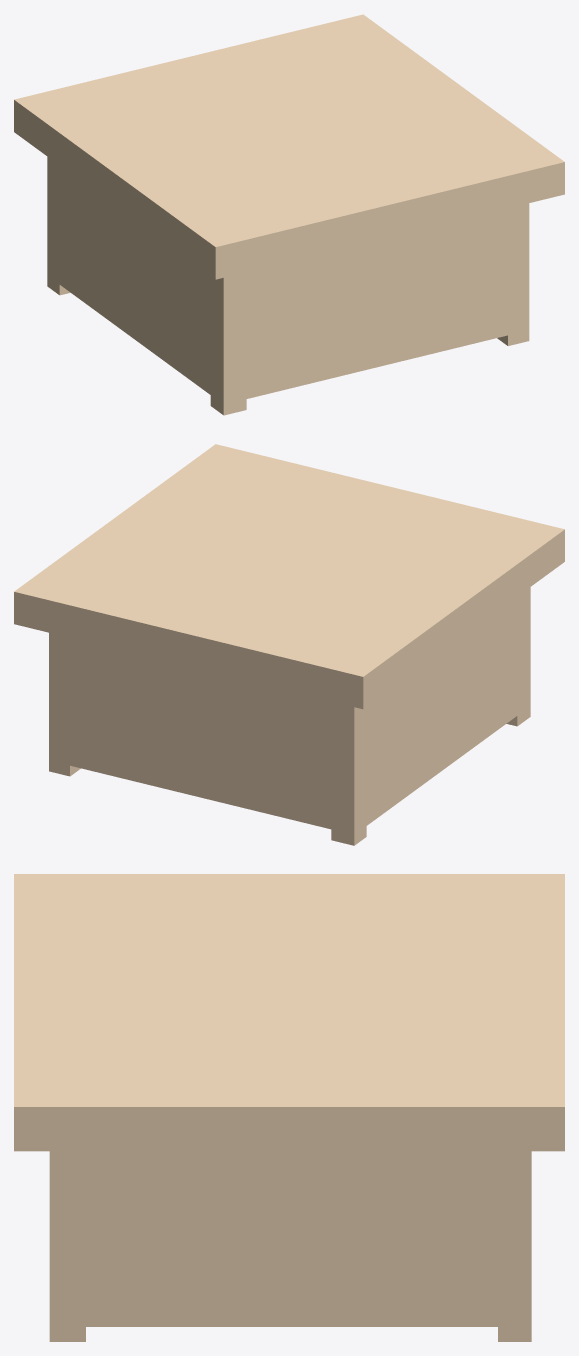
Rendered from base_table.fbx.
3 views of the same model, one above another, from view 1: azimuth 30°, elevation 25°; view 2: azimuth 150°, elevation 25°; view 3: azimuth 270°, elevation 25° (orthographic). The views are drawn at different scales.
Visible parts, largest first — view 1: table; view 2: table; view 3: table.
Boxes of the visible parts, x1=… form: table: x1=14, y1=14, x2=564, y2=415; table: x1=14, y1=444, x2=564, y2=845; table: x1=14, y1=874, x2=564, y2=1341.
Bounding box in the file's own units: 200 × 100 × 200.
